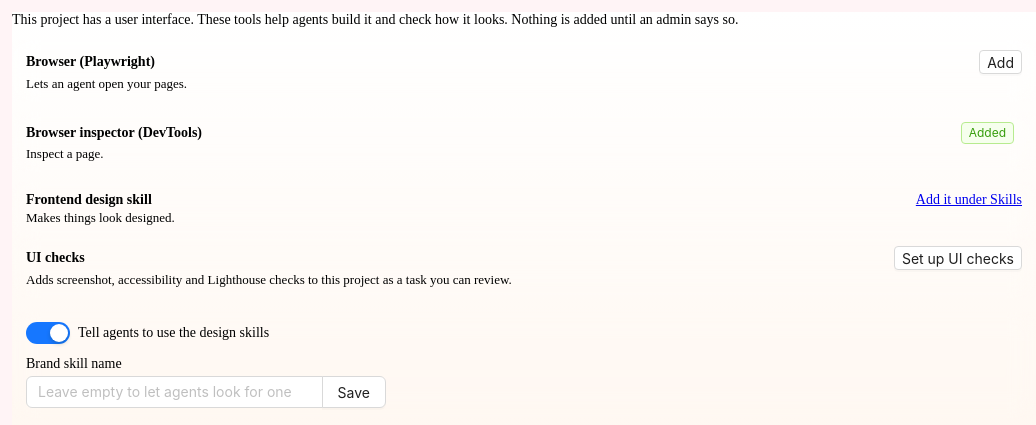
it: RecommendedSection › Add asks first, then posts the preset scoped to the project and reloads
Later steps or results of the test are not shown.
What coordinates should you click on to do the following:
click the button "Add"
I would click on:
 (1001, 62)
Its box is [979,50,1022,74].
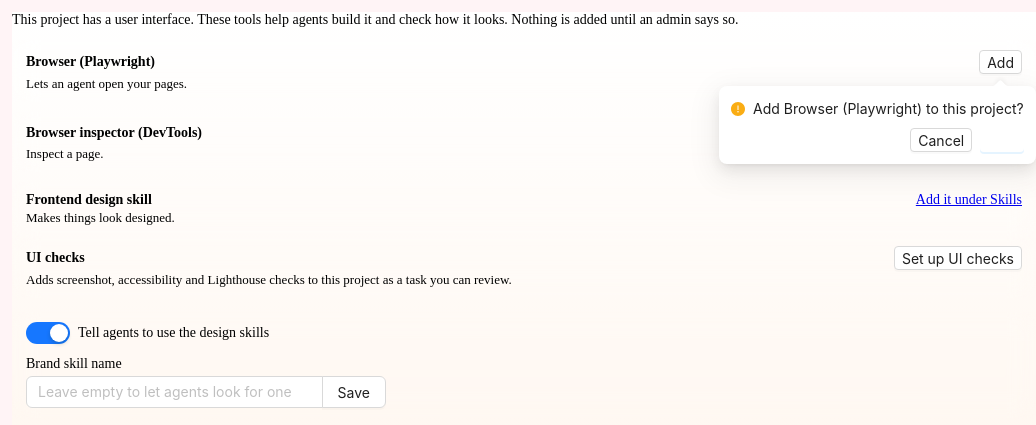
Expected: the text "Add Browser (Playwright) to this project?" is shown, [753,98,1024,120]
